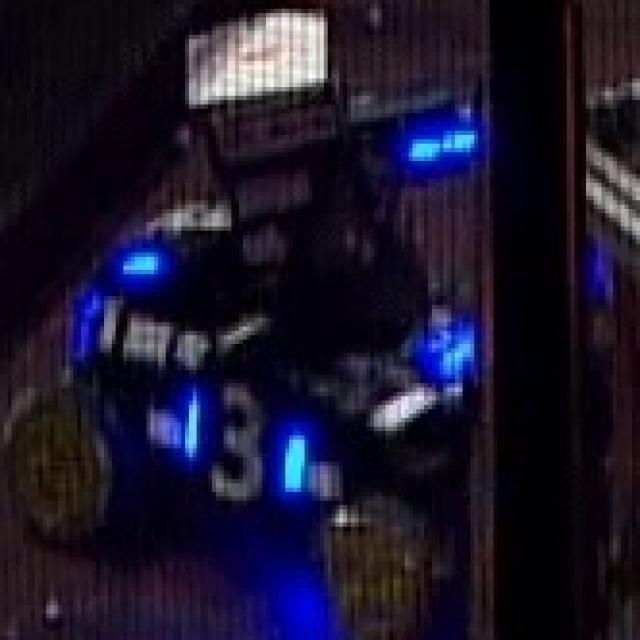B3: (178, 379, 304, 492)
